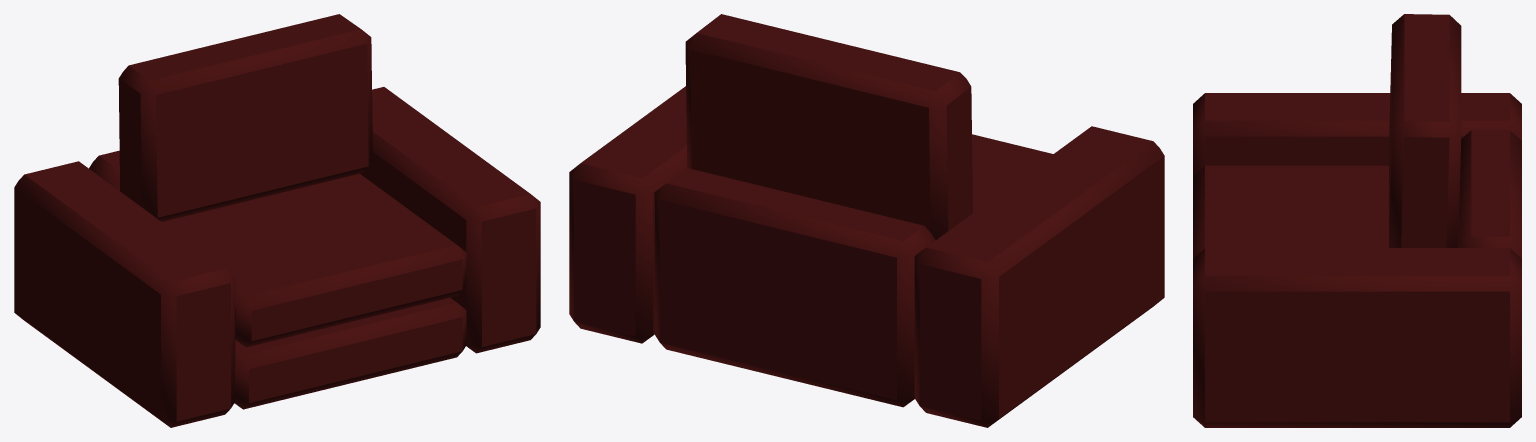
File: Sofa_Small.obj
3 views of the same model, side by side, from view 1: azimuth 30°, elevation 25°; view 2: azimuth 150°, elevation 25°; view 3: azimuth 270°, elevation 25° (orthographic). The views are drawn at different scales.
Visible parts, largest first — view 1: Sofa_Small_Cube.271; view 2: Sofa_Small_Cube.271; view 3: Sofa_Small_Cube.271.
Part boxes in pixels (x1,y1,x2,y2): Sofa_Small_Cube.271: (14,14,540,427); Sofa_Small_Cube.271: (569,14,1164,427); Sofa_Small_Cube.271: (1193,14,1521,427).
Size of the model in its own units: 2.03 by 1.32 by 1.46.
